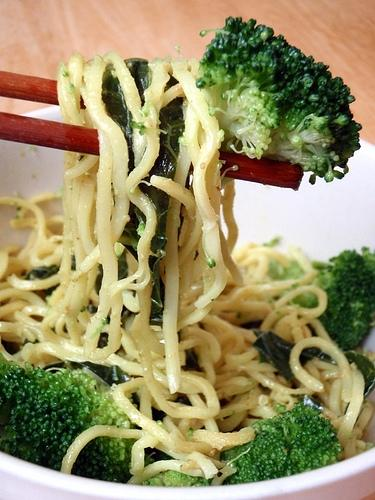broccoli: (196, 16, 362, 185), (0, 354, 142, 483), (220, 394, 344, 485), (267, 246, 375, 350)
